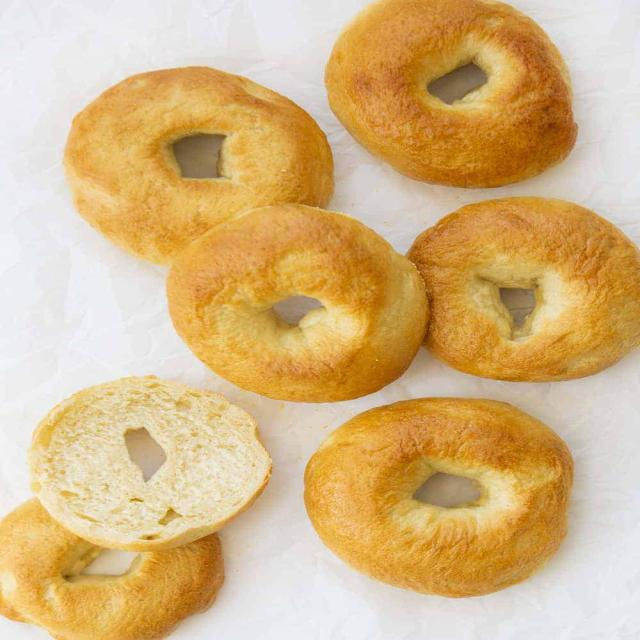Bagel: (304, 398, 574, 598), (65, 66, 334, 264), (166, 204, 428, 402), (324, 0, 577, 187), (29, 376, 272, 551), (407, 198, 638, 381), (0, 499, 224, 640)
